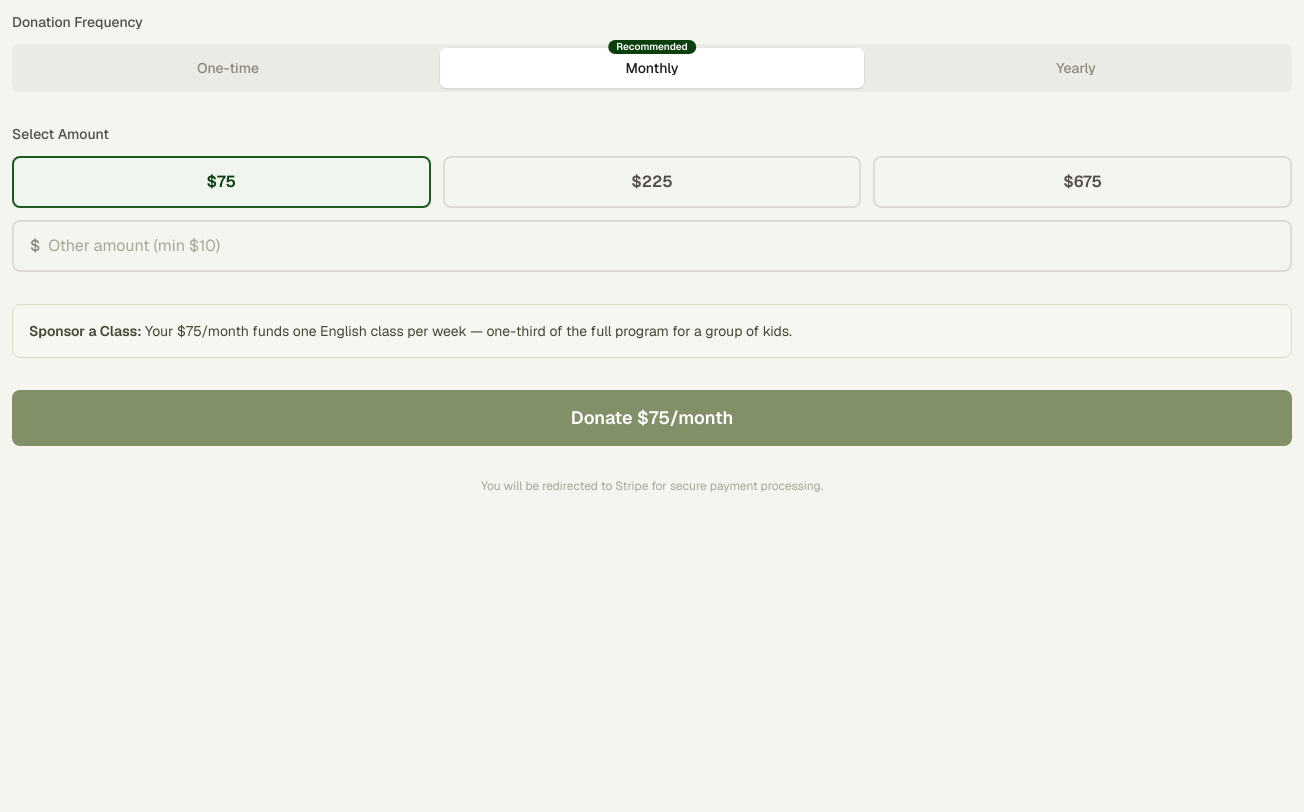
Scenario: DonationForm › validation › clears error on new submit attempt
The width and height of the screenshot is (1304, 812).
Type "20000" into the number field with placeholder "Other amount (min $10)" at coordinates (661, 246), box [48, 234, 1274, 258]
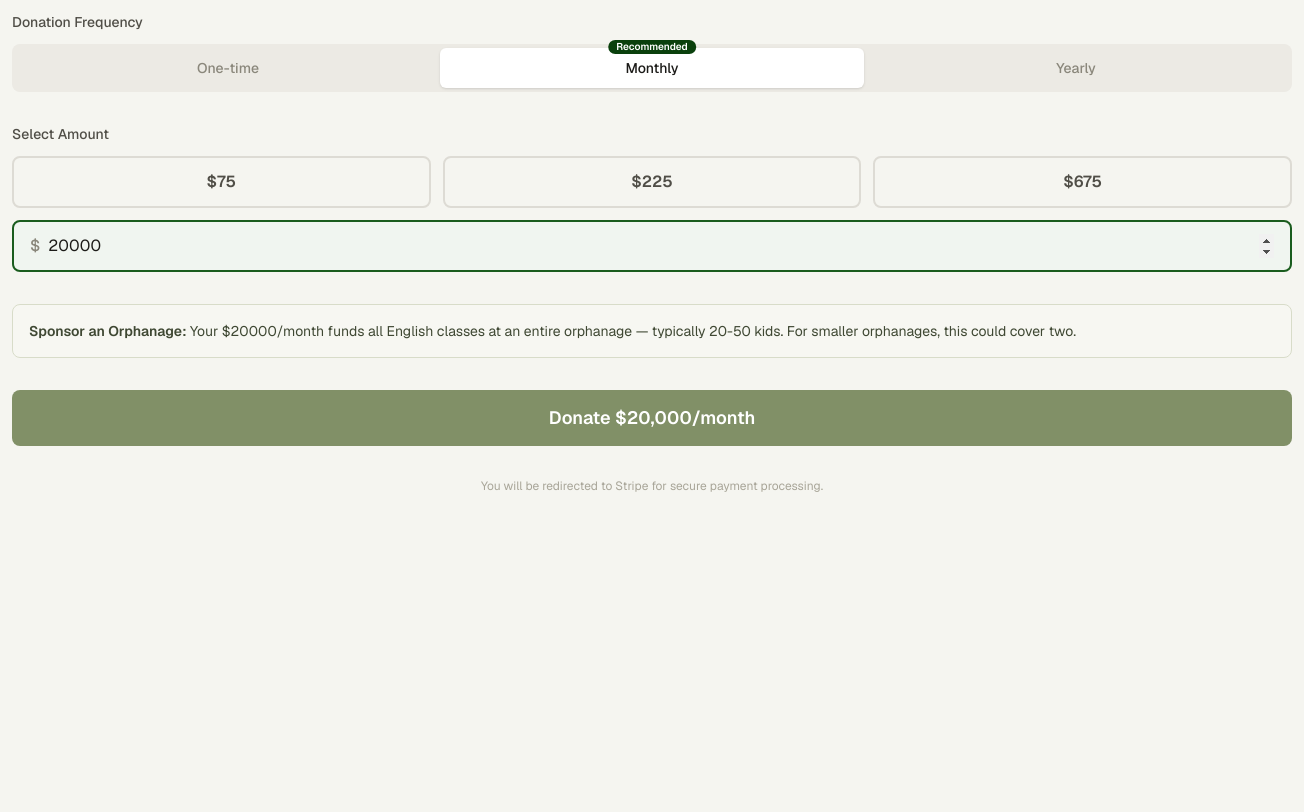
Submit the form with placeholder "Other amount (min $10)", box [12, 12, 1292, 494]
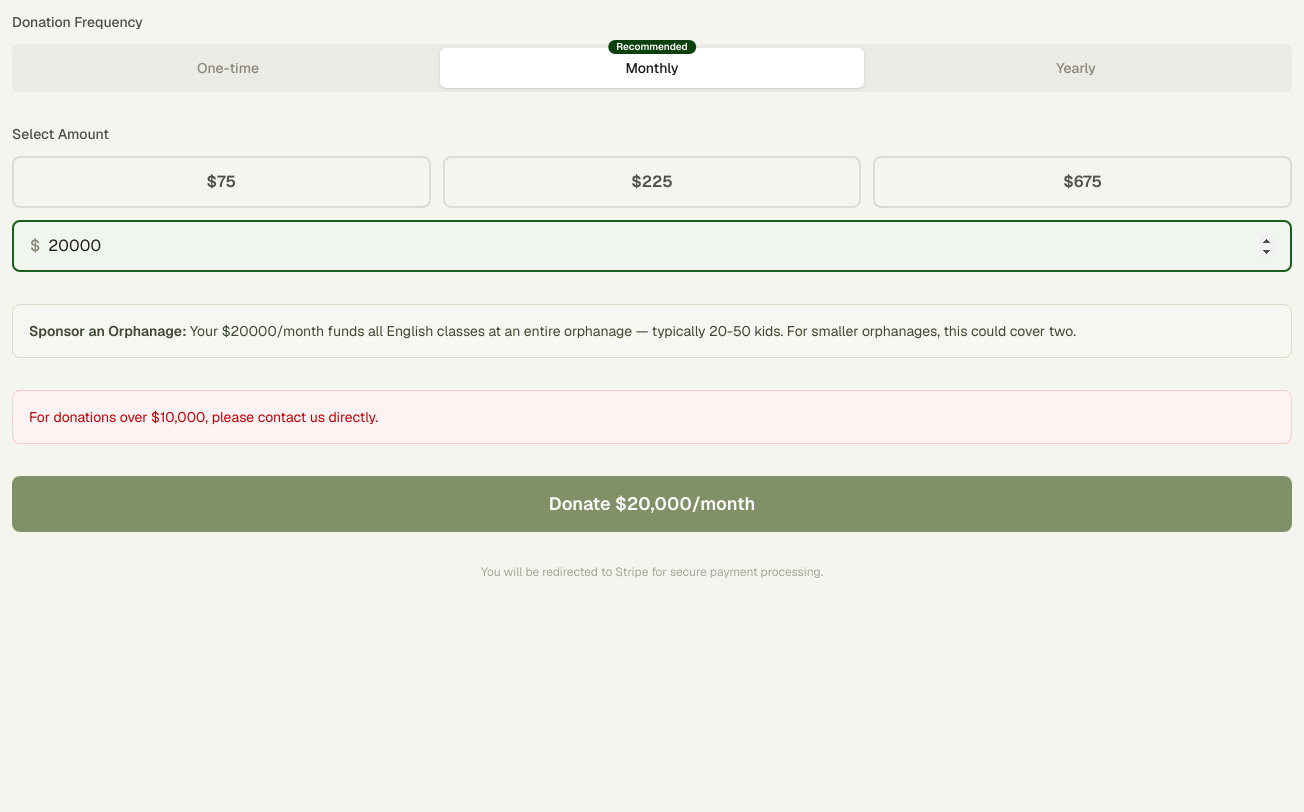
Result: the text "For donations over $10,000, please contact us directly." is shown at [12, 390, 1292, 444]
Now select a valid amount and submit
Click the button "$75" at coordinates (221, 182), box [12, 156, 431, 208]
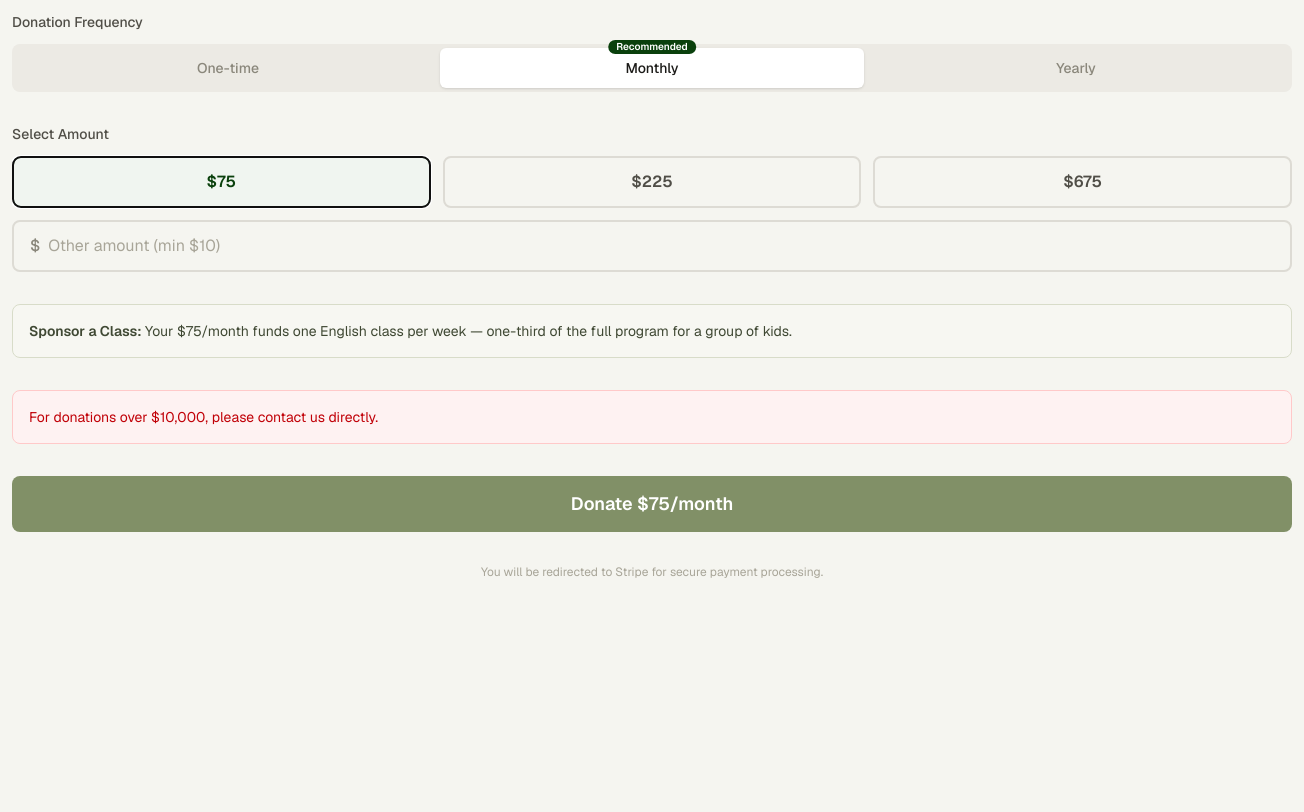
Click the button "Donate $75/month" at coordinates (652, 504), box [12, 476, 1292, 532]
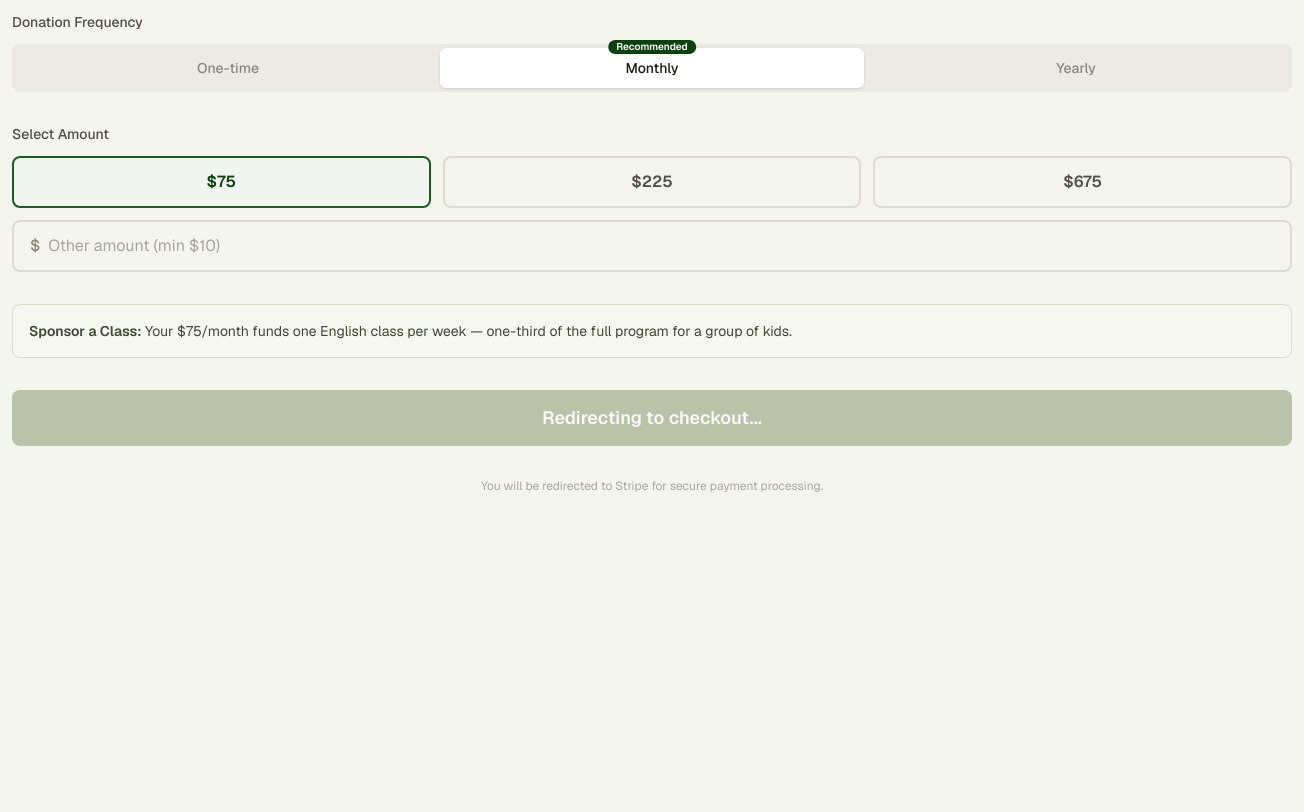
Result: the text "over $10,000" is gone
